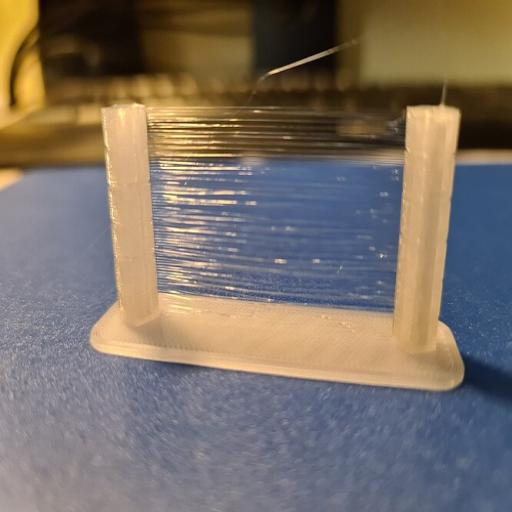stringing: (148, 109, 406, 308)
